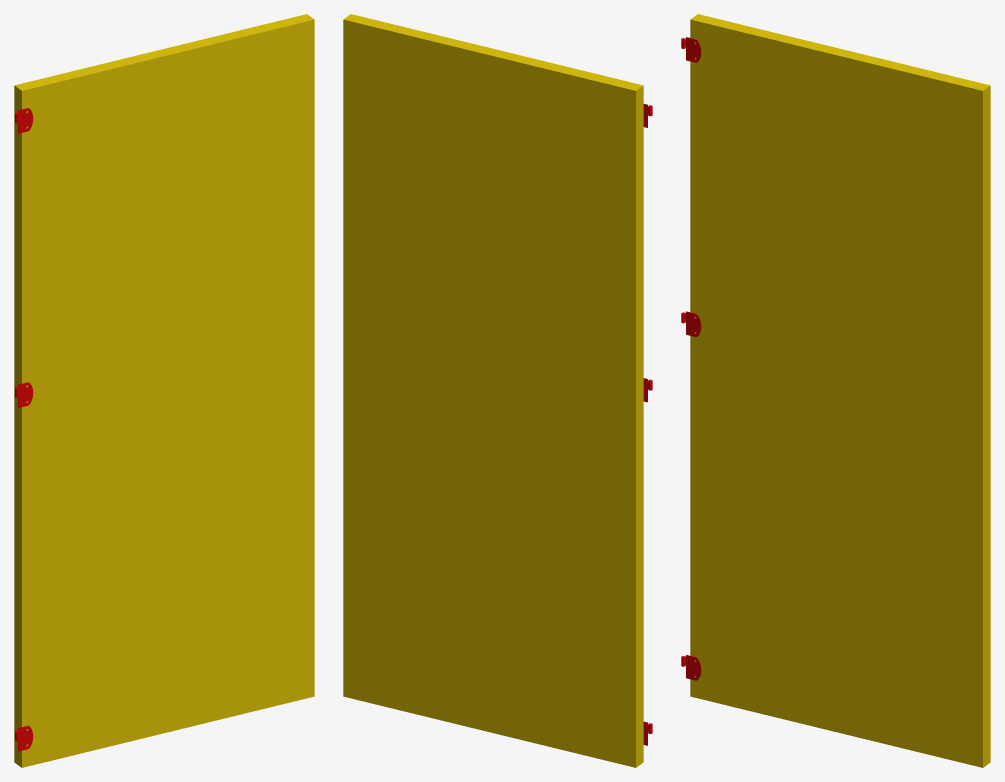
Rendered from door_left_simple.fbx.
3 renders of one model, left to right at view 1: azimuth 30°, elevation 25°; view 2: azimuth 150°, elevation 25°; view 3: azimuth 330°, elevation 25°, orthographic.
Visible parts, largest first — view 1: basic_left.002; view 2: basic_left.002; view 3: basic_left.002.
Boxes of the visible parts, box(x1,y1,x2,y2) form: basic_left.002: box(14, 14, 314, 767); basic_left.002: box(343, 14, 652, 767); basic_left.002: box(681, 14, 990, 767).
Bounding box in the file's own units: 91.8 × 198 × 5.12.
